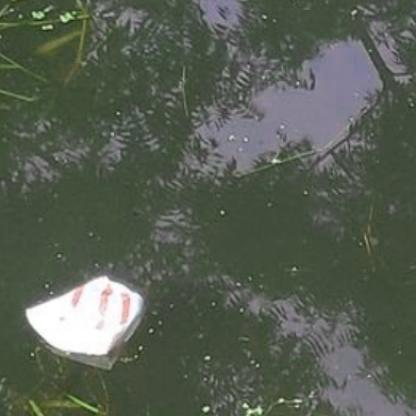Plastic: (20, 274, 150, 371)
